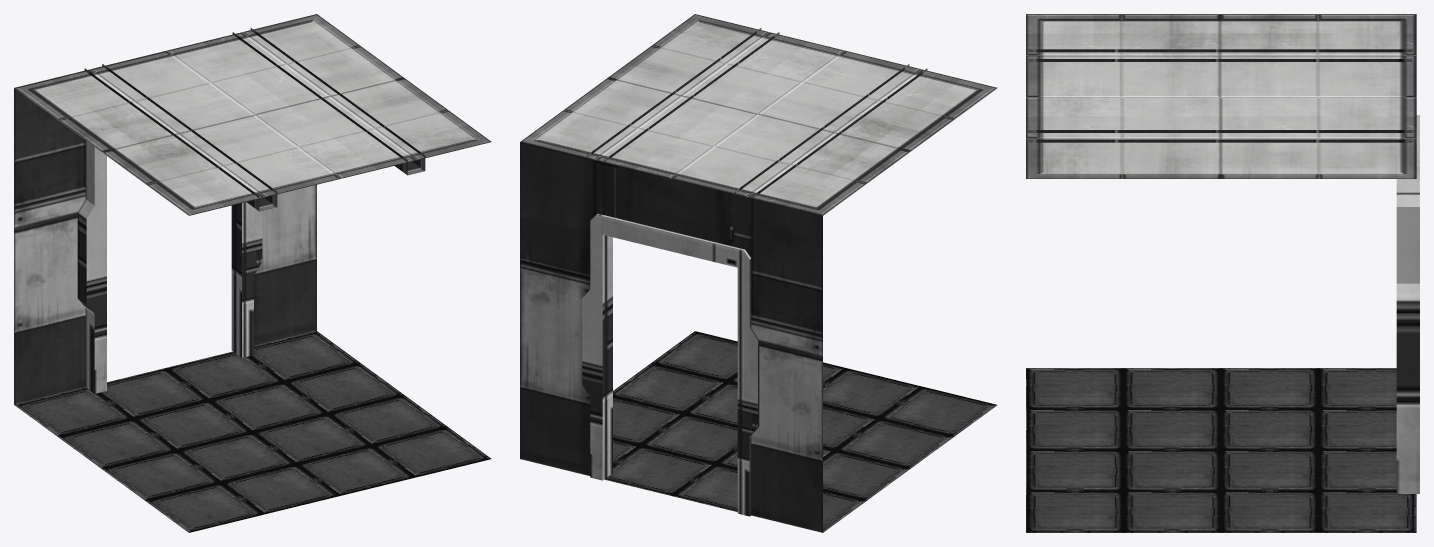
File: CorridorMid1.fbx
3 views of the same model, side by side, from view 1: azimuth 30°, elevation 25°; view 2: azimuth 150°, elevation 25°; view 3: azimuth 270°, elevation 25° (orthographic). The views are drawn at different scales.
Visible parts, largest first — view 1: CorridorMid1; view 2: CorridorMid1; view 3: CorridorMid1.
Part boxes in pixels (left/top/right/bottom): CorridorMid1: left=14, top=14, right=491, bottom=532; CorridorMid1: left=520, top=14, right=997, bottom=532; CorridorMid1: left=1026, top=14, right=1419, bottom=532.
Bounding box in the file's own units: 5 × 5.04 × 5.04.
